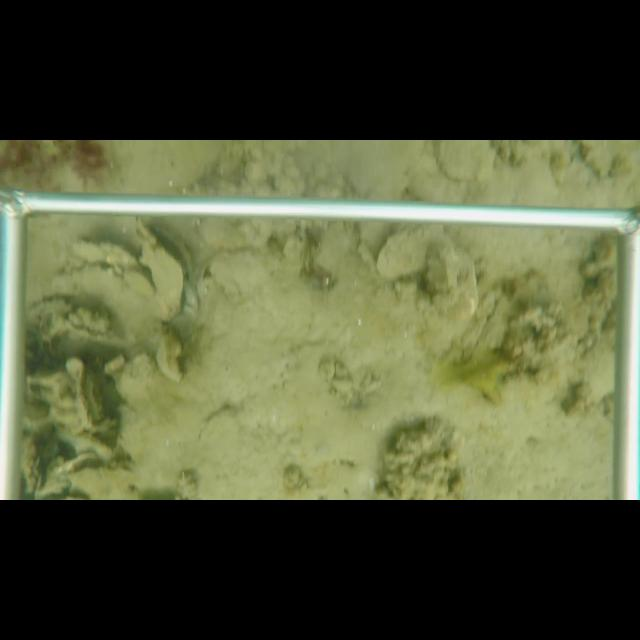Oyster-Closed: (136, 217, 188, 326), (375, 224, 447, 283), (431, 141, 495, 184), (64, 358, 92, 431)
